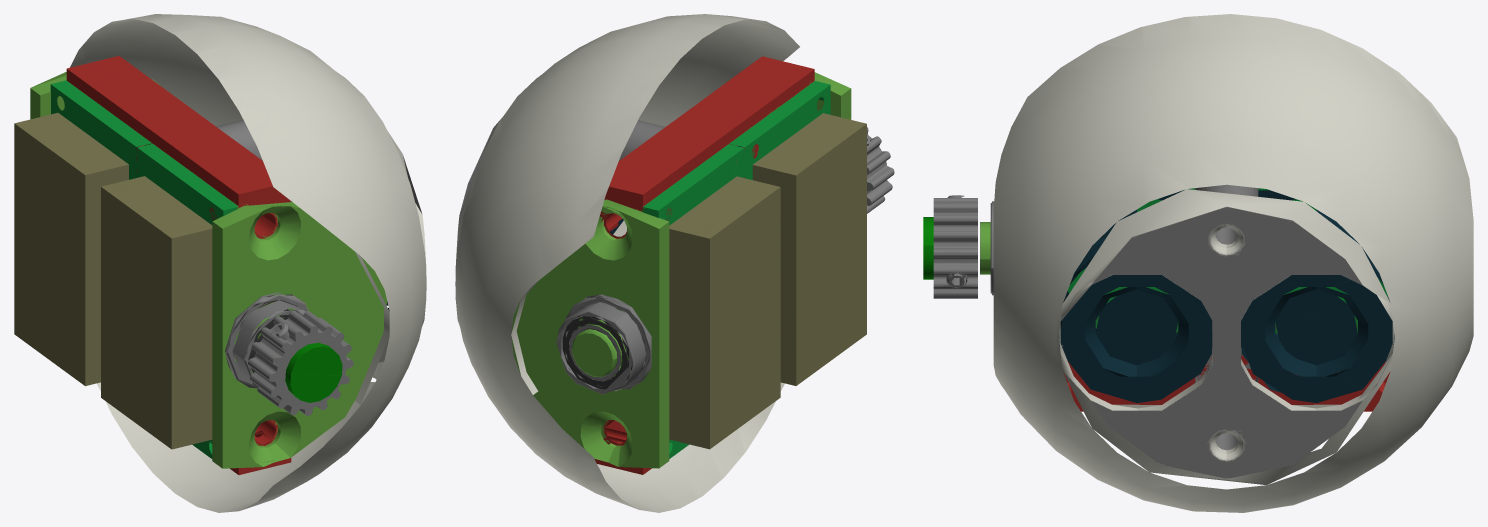
The model's file is eyer_2_joint.obj.
3 renders of one model, left to right at view 1: azimuth 30°, elevation 25°; view 2: azimuth 150°, elevation 25°; view 3: azimuth 270°, elevation 25°, orthographic. The views are drawn at different scales.
Size of the model in its own units: 0.0301 by 0.05 by 0.0524.
Materials: 1 (1 with a texture image).
